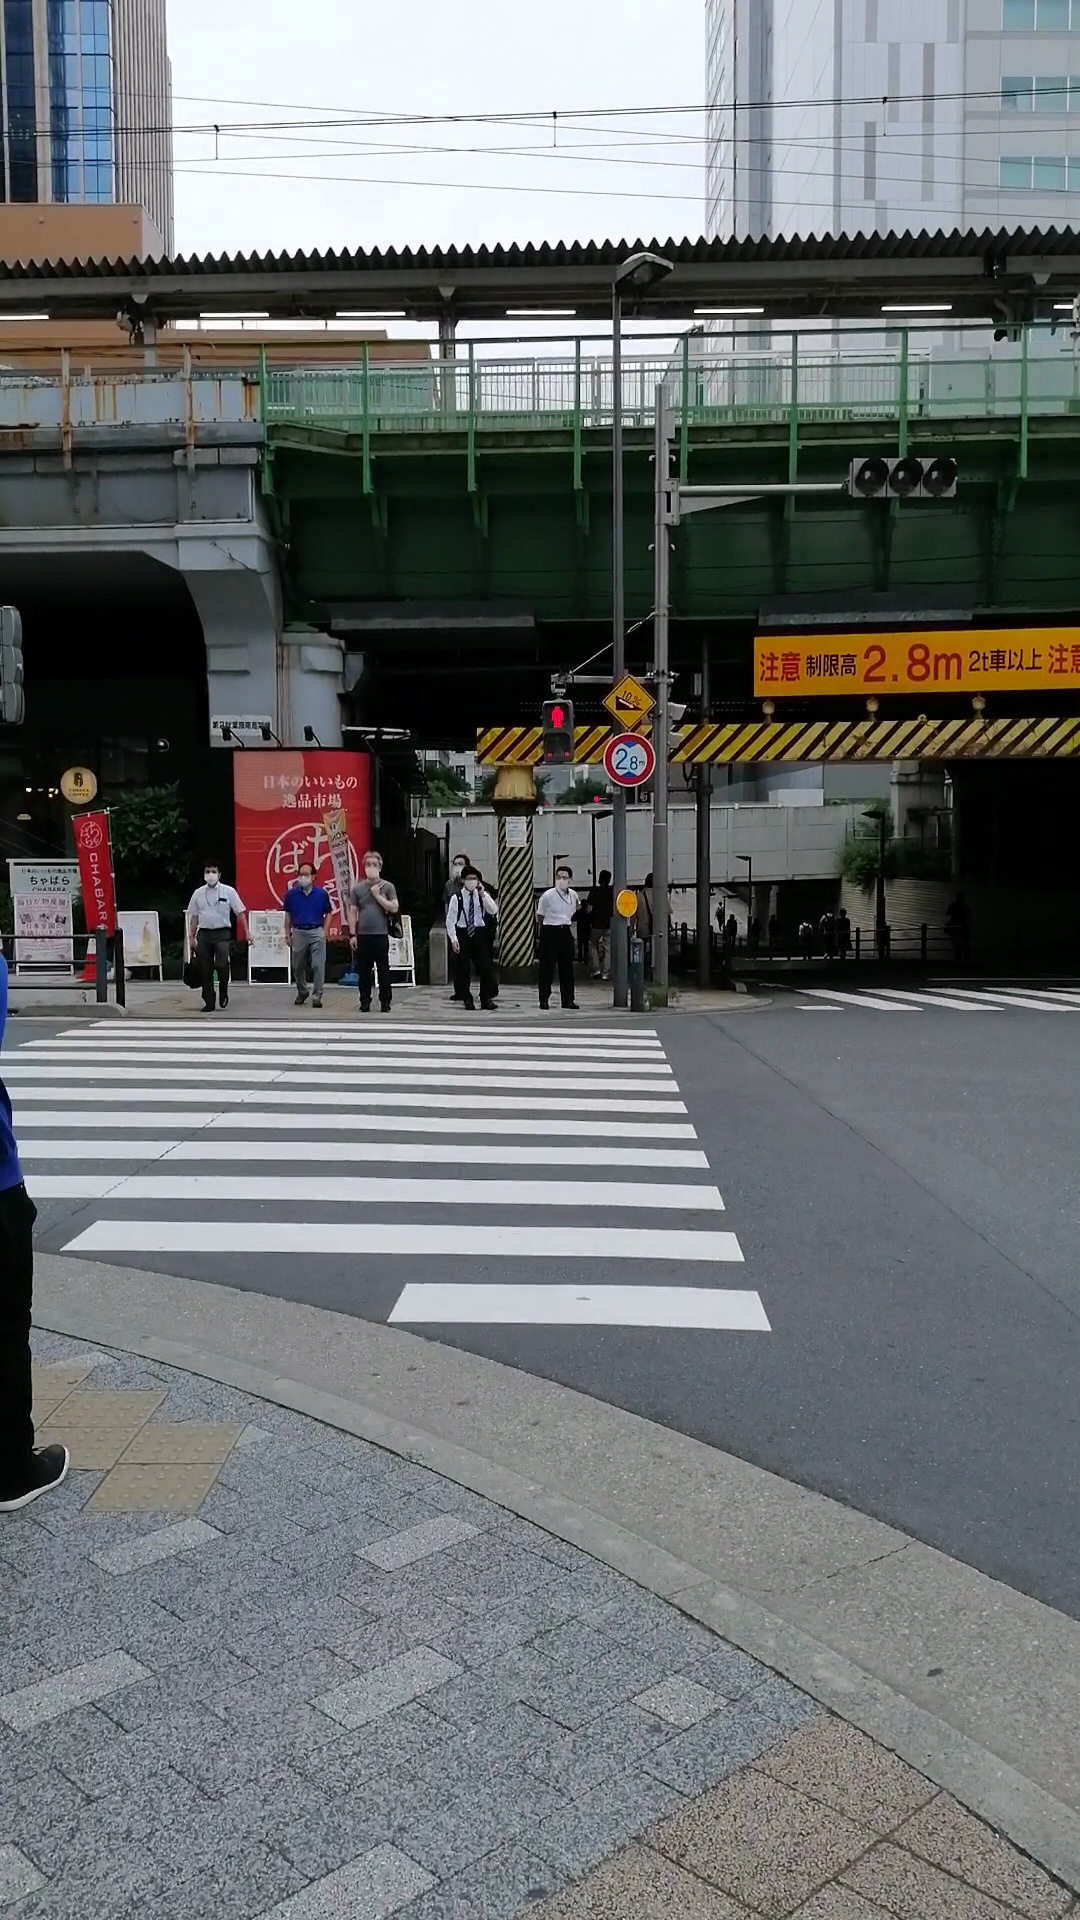red: (541, 699, 574, 764)
